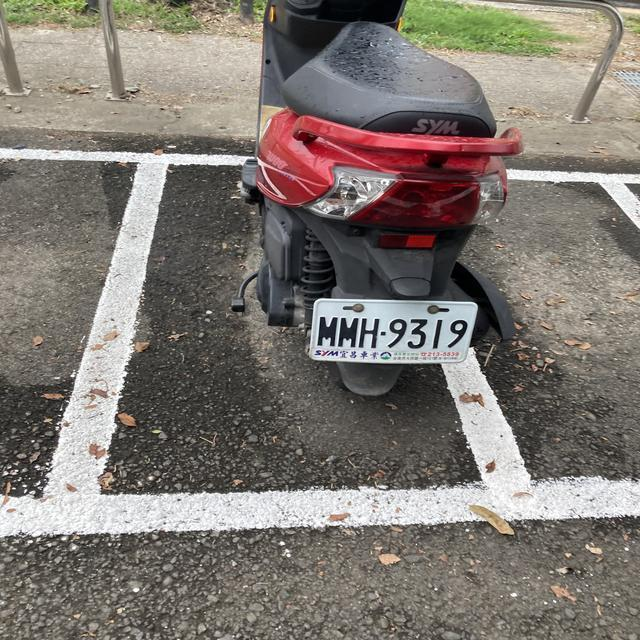plate: (309, 299, 475, 355)
